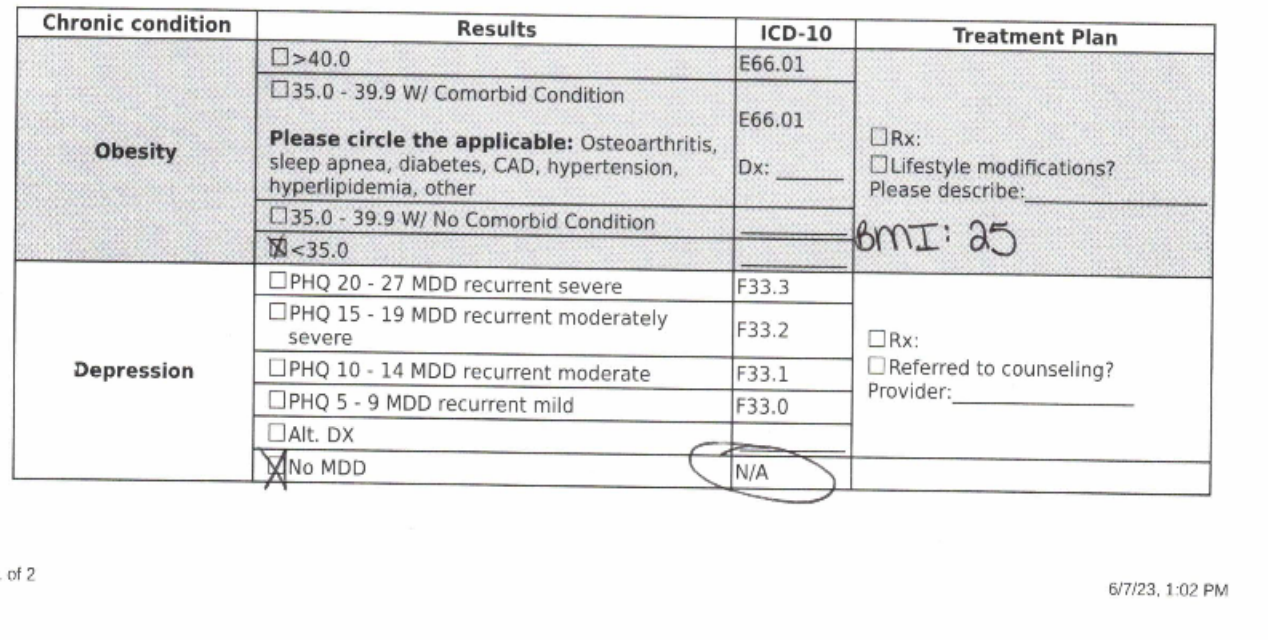checked: (261, 449, 290, 492), (264, 234, 290, 262)
